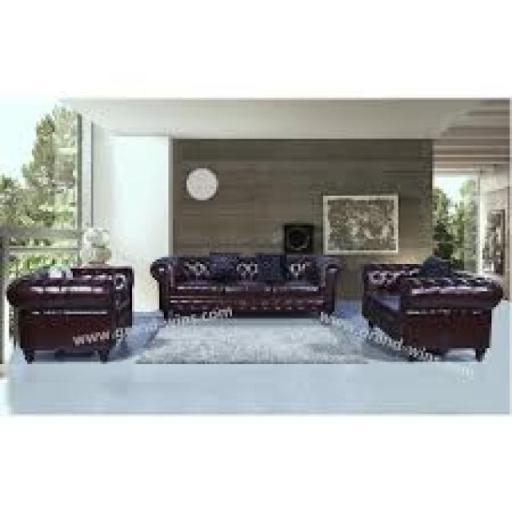sofa: (158, 210, 374, 340), (368, 211, 506, 364), (13, 242, 146, 380)
